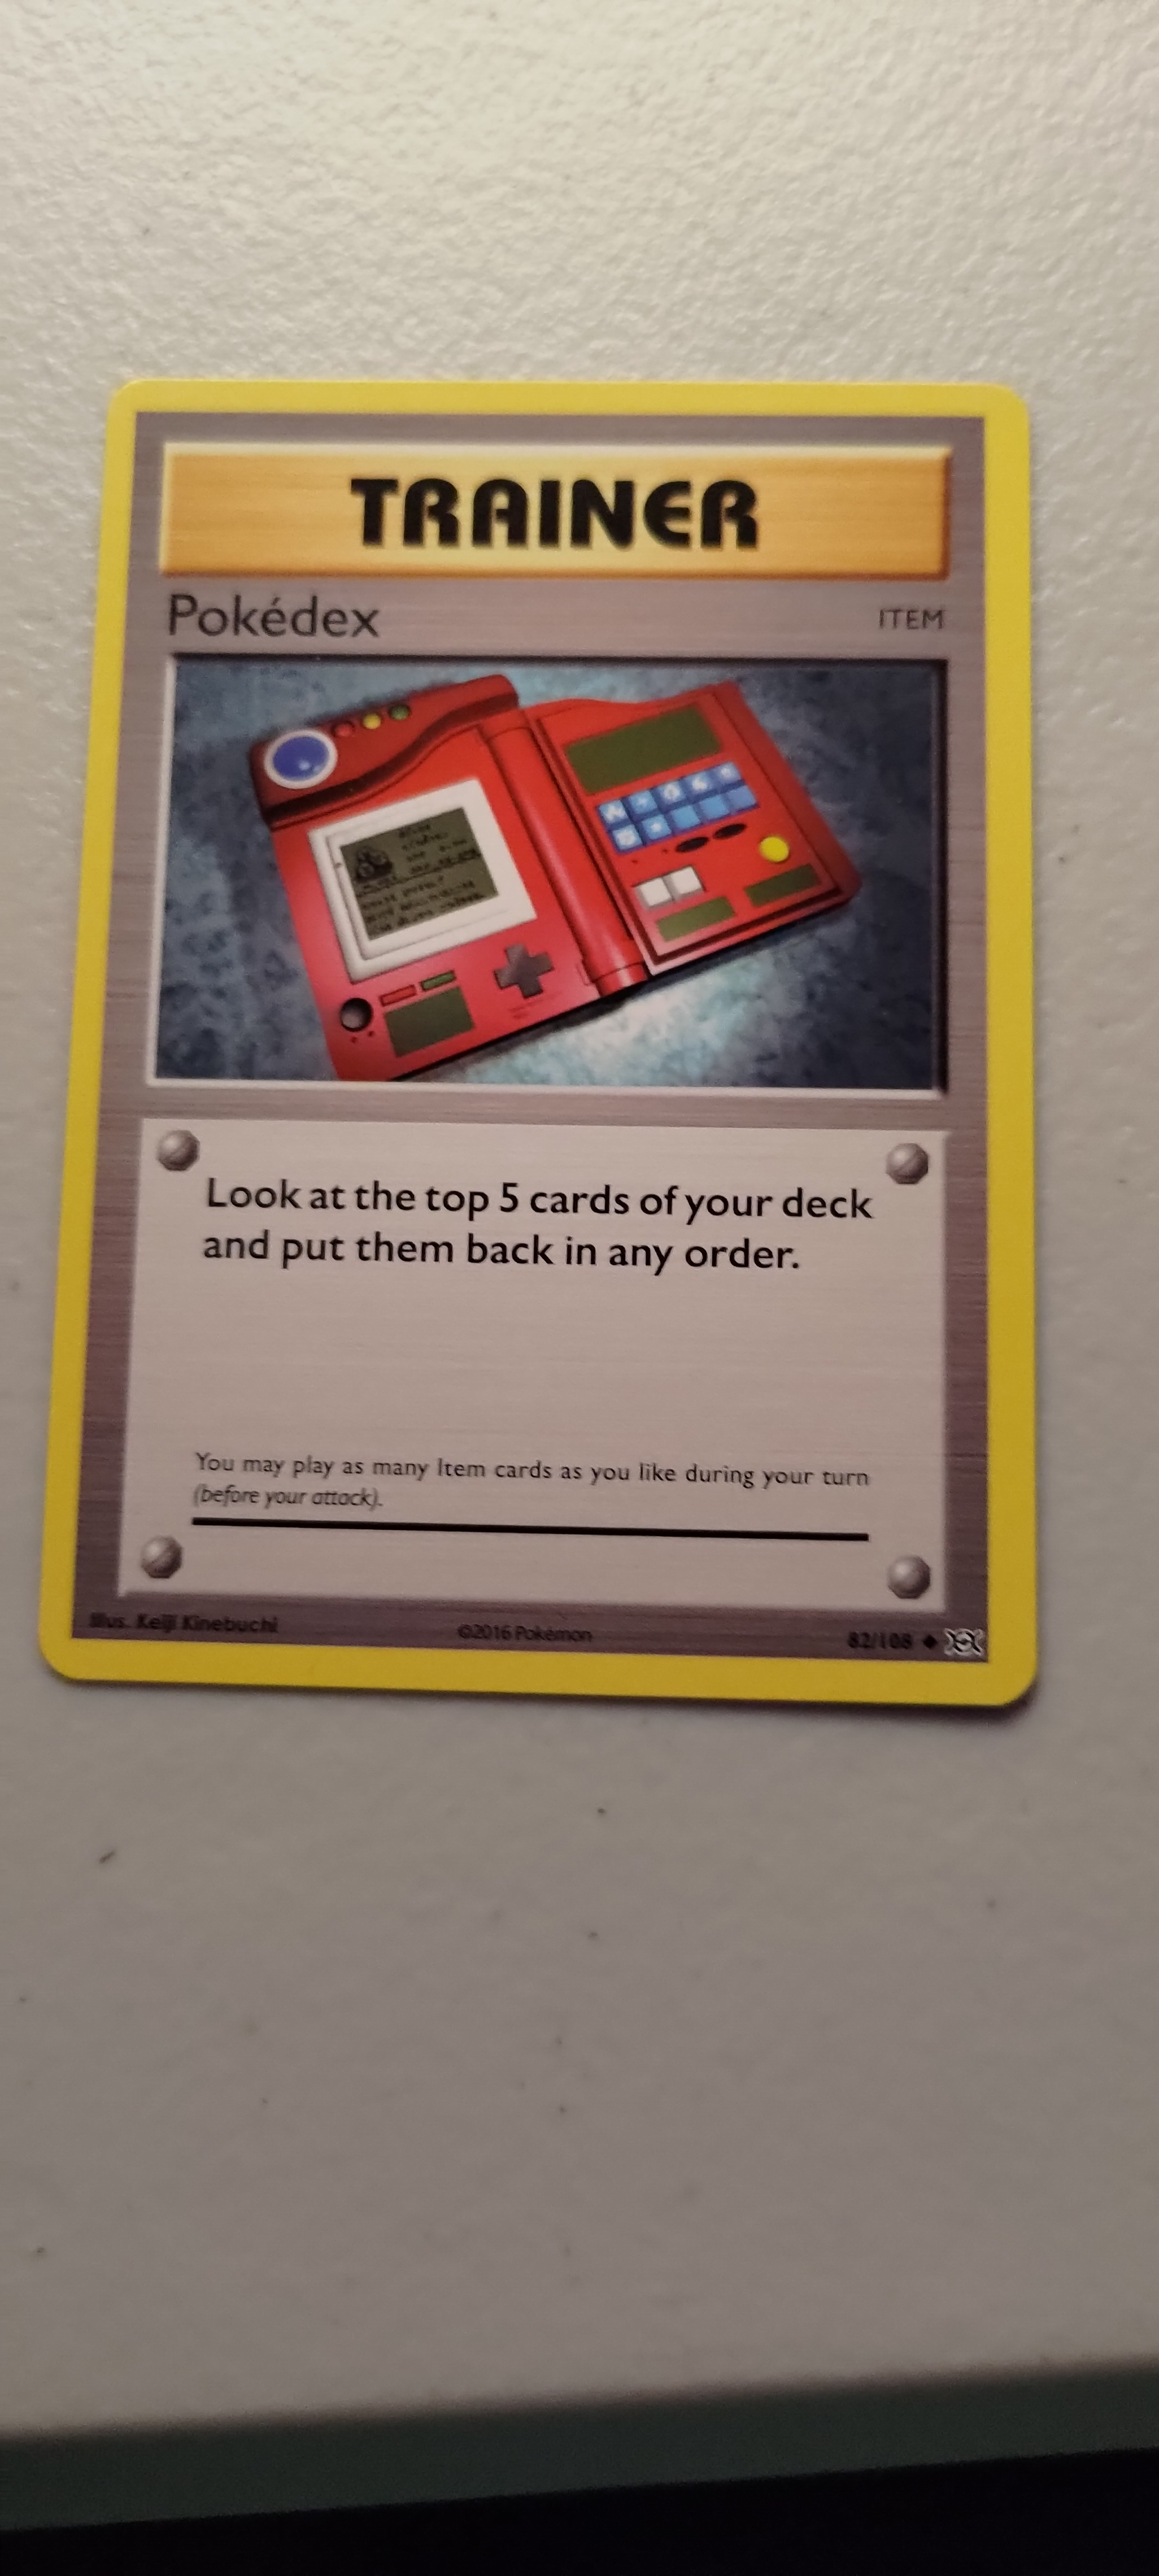pokemon_card: (31, 360, 1079, 1771)
